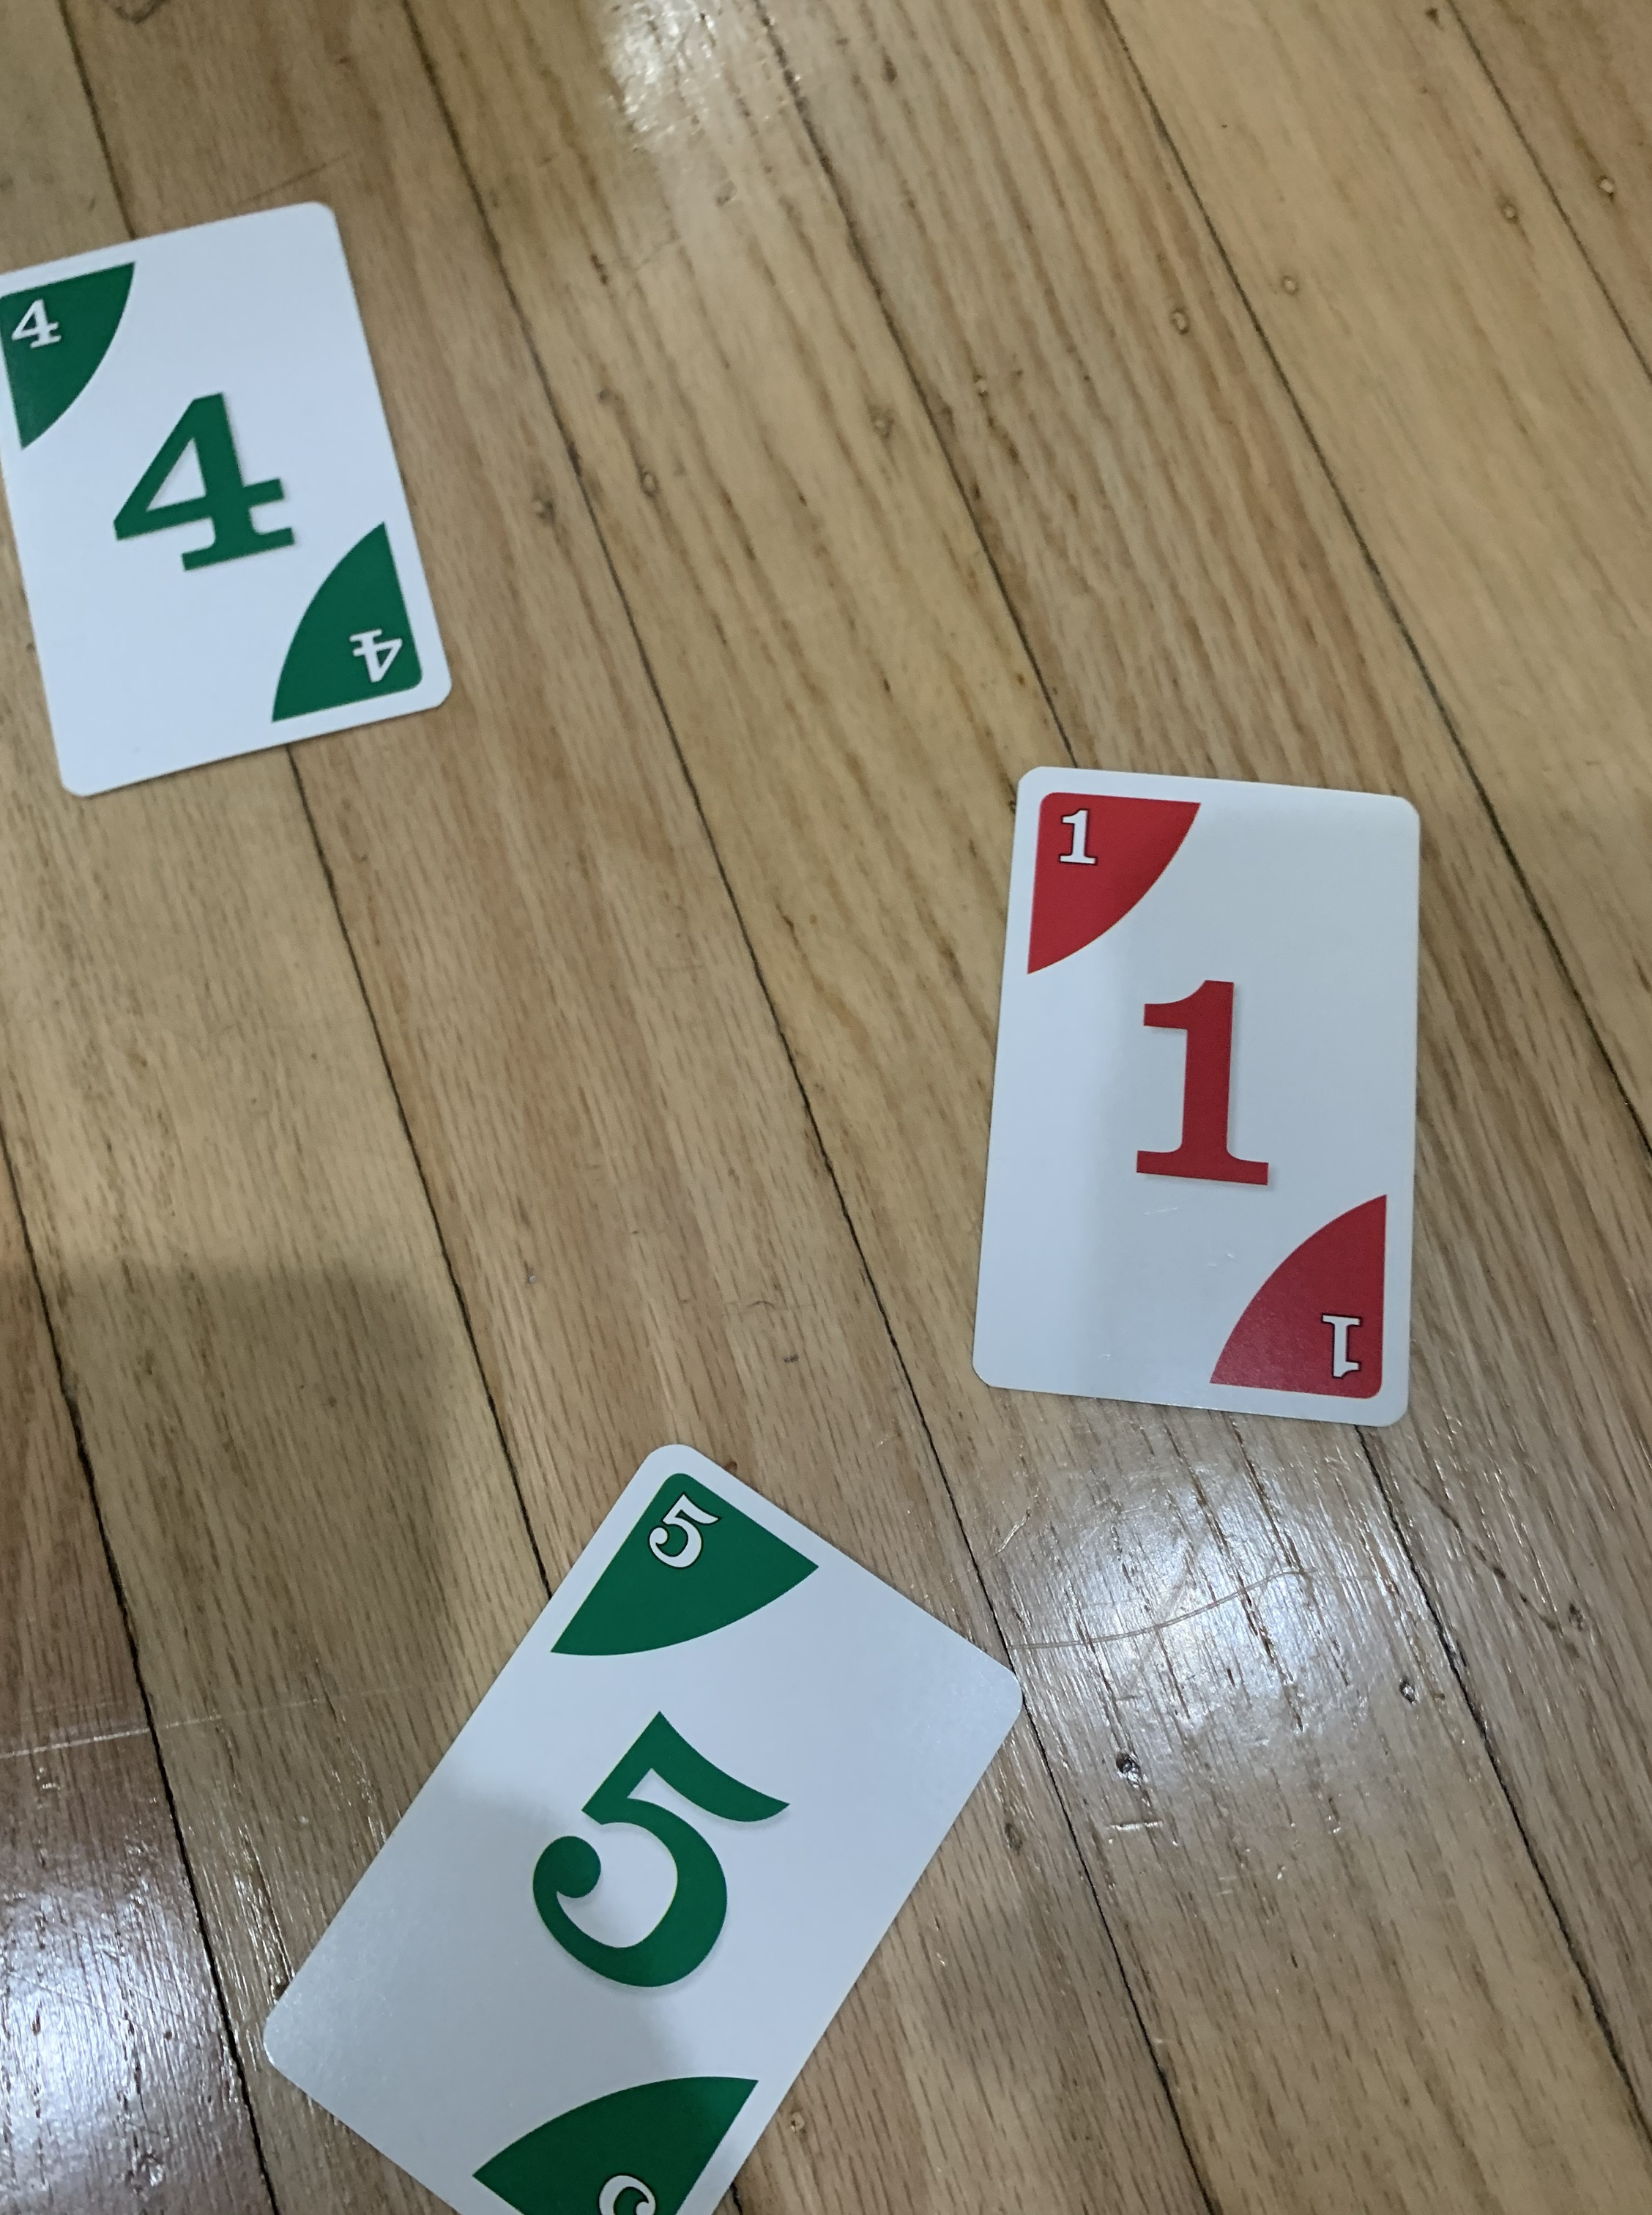five: (252, 1434, 1039, 2215)
four: (7, 184, 463, 818)
one: (960, 760, 1437, 1437)
